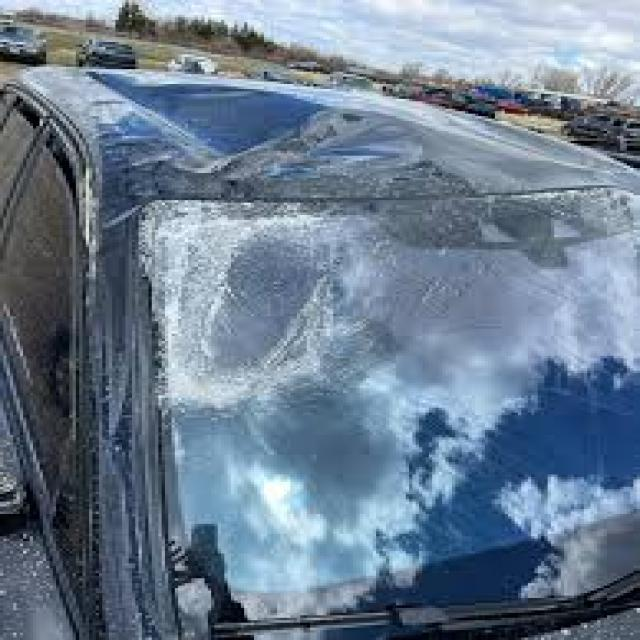damaged-window: (119, 189, 640, 639)
